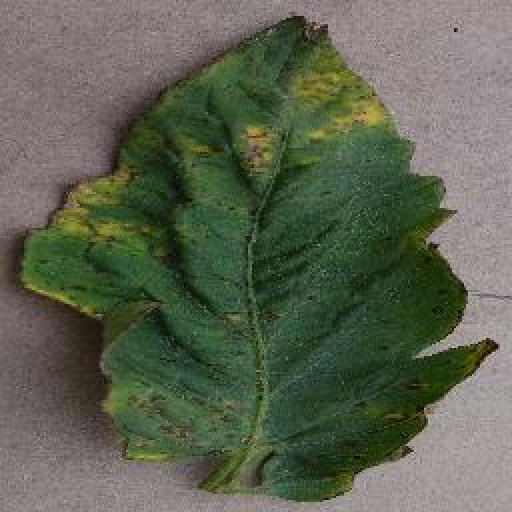Bacterial Spot: (18, 8, 498, 504)
